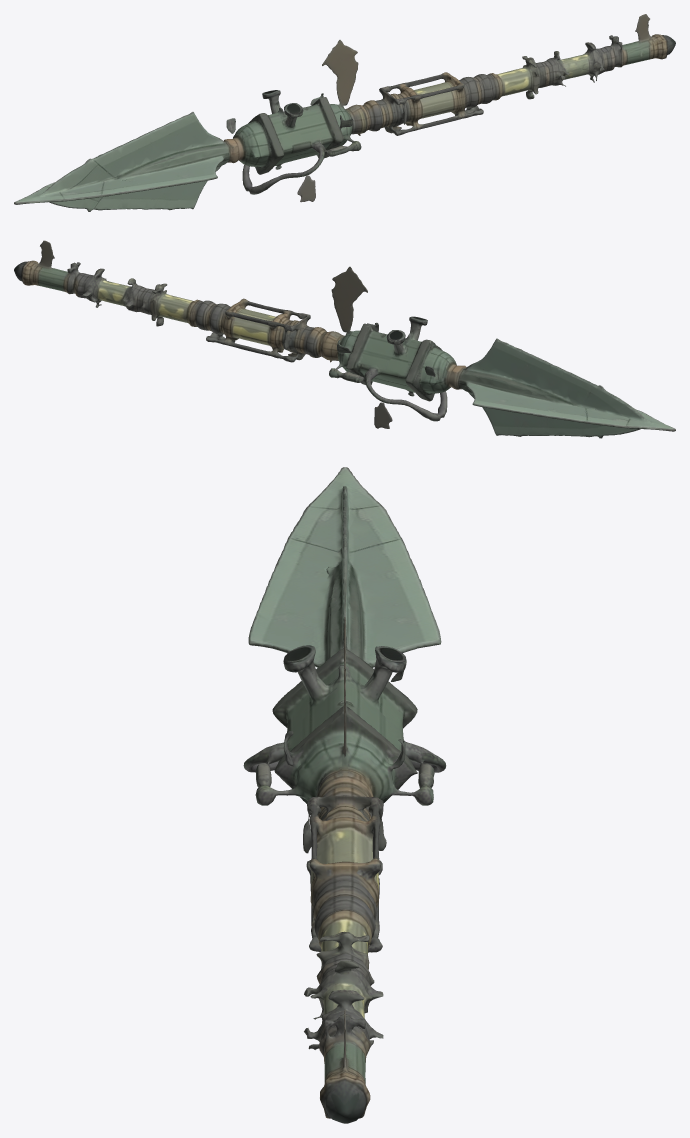
Rendered from cif3-spear-lowpoly.glb.
3 renders of one model, top to bottom at view 1: azimuth 30°, elevation 25°; view 2: azimuth 150°, elevation 25°; view 3: azimuth 270°, elevation 25°, orthographic. The views are drawn at different scales.
Bounding box in the file's own units: 1.9 × 0.4256 × 0.2514.
1 material, 1 textured.
